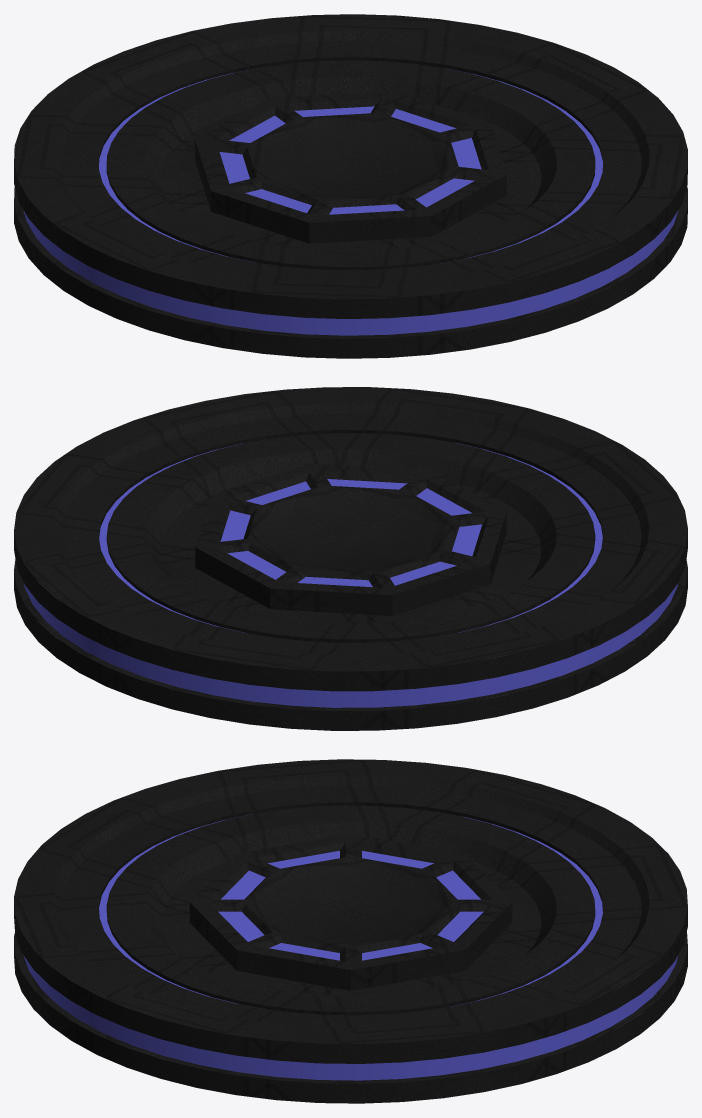
File: Coin_sm.gltf
3 renders of one model, top to bottom at view 1: azimuth 30°, elevation 25°; view 2: azimuth 150°, elevation 25°; view 3: azimuth 270°, elevation 25°, orthographic.
Visible parts, largest first — view 1: Sci-Fi Coin; view 2: Sci-Fi Coin; view 3: Sci-Fi Coin.
Part boxes in pixels (x1,y1,x2,y2): Sci-Fi Coin: [14, 14, 687, 358]; Sci-Fi Coin: [14, 387, 687, 730]; Sci-Fi Coin: [14, 759, 687, 1103].
Size of the model in its own units: 87.5 by 8.52 by 87.49.
Materials: 2 (1 with a texture image).
